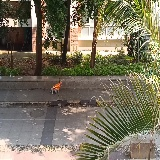fire: (53, 81, 62, 90)
